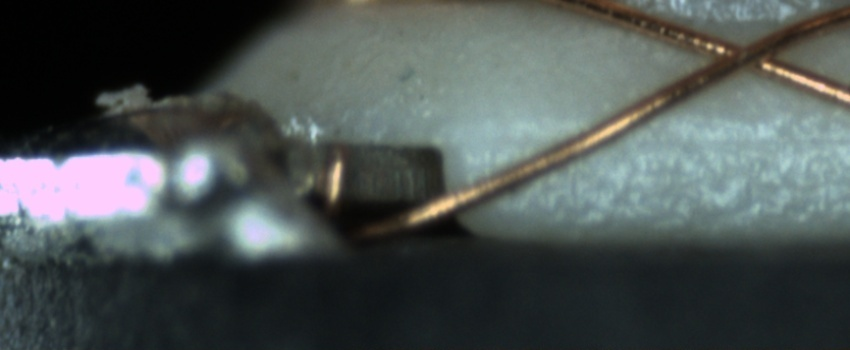CL: (685, 20, 812, 82)
DL: (474, 105, 849, 169)
TE: (303, 135, 358, 226)
